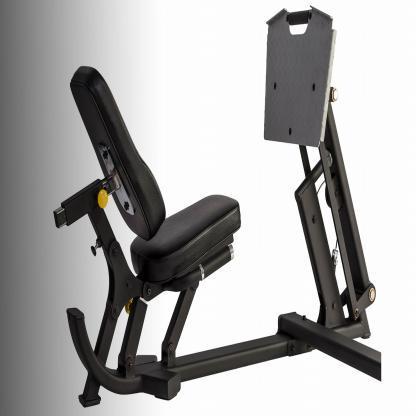leg press: (42, 1, 385, 411)
